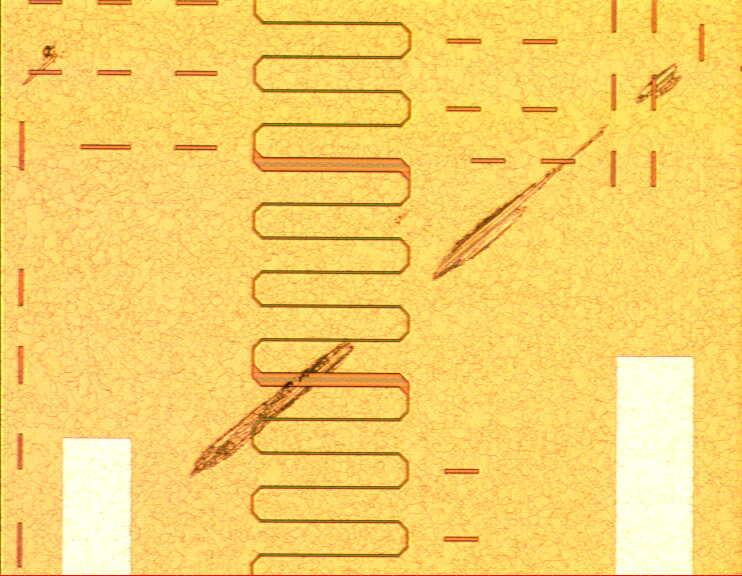SCRATCH: (164, 51, 701, 477), (16, 36, 75, 99)
